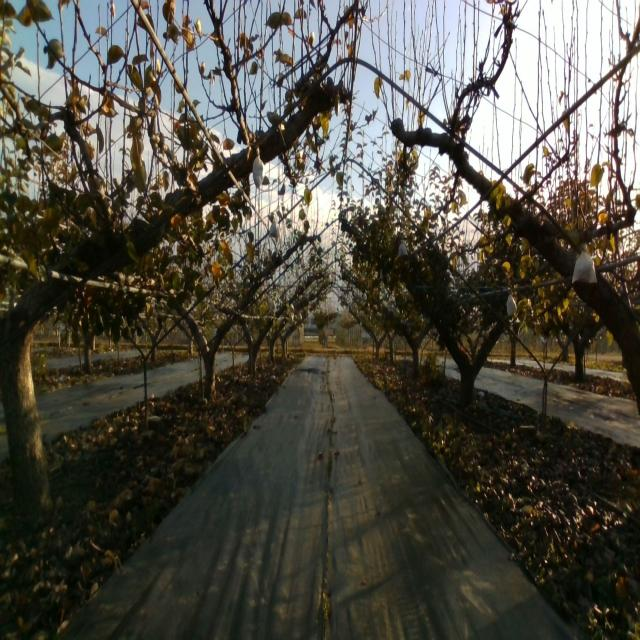pearbags: (572, 242, 598, 284), (251, 146, 264, 190), (267, 219, 282, 239), (506, 293, 518, 315)
